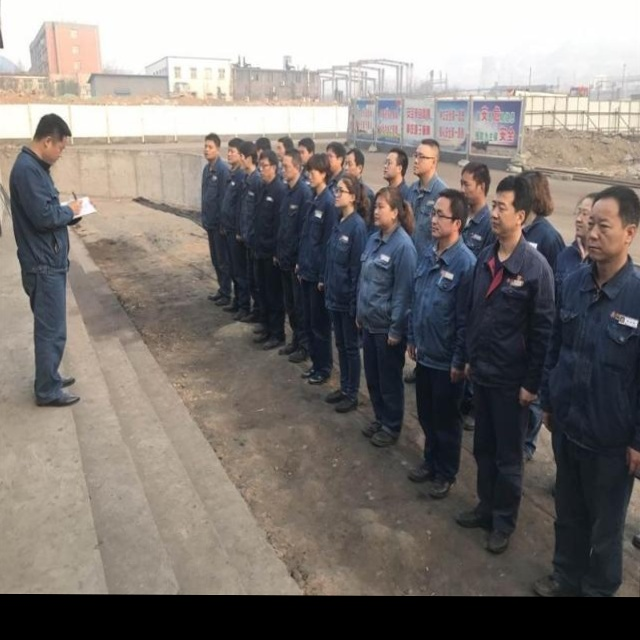Sin_Casco_Mascarrilla: (428, 190, 470, 248), (29, 112, 71, 166), (371, 188, 405, 226)
